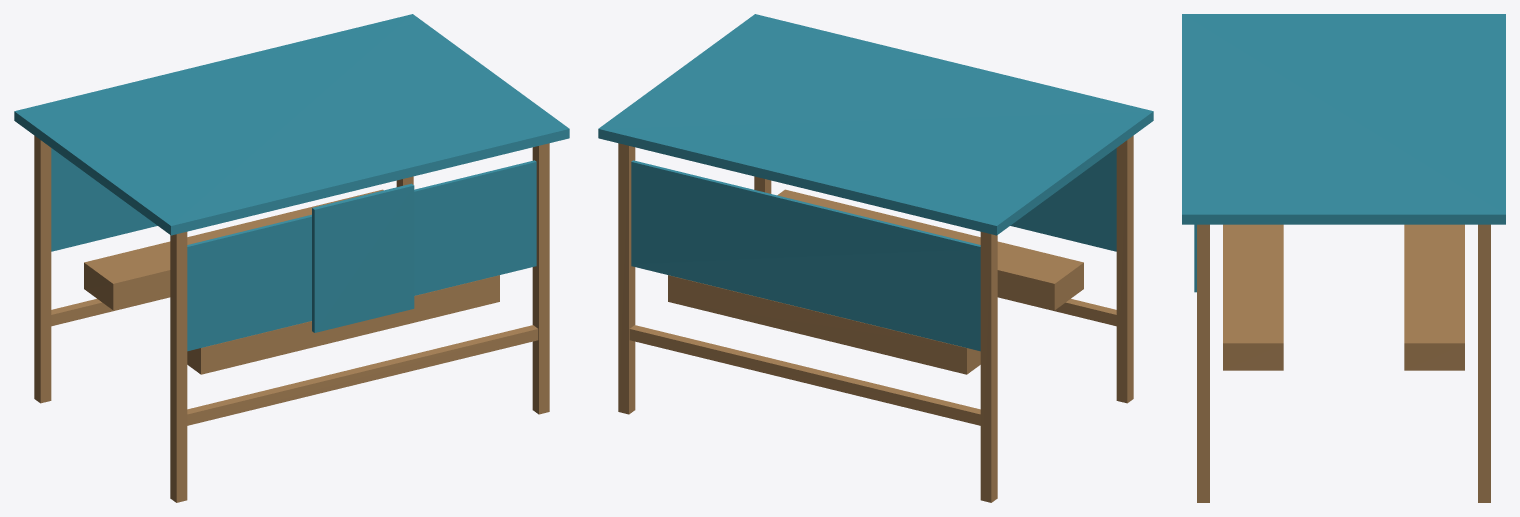
The model's file is shade-house.source.glb.
3 views of the same model, side by side, from view 1: azimuth 30°, elevation 25°; view 2: azimuth 150°, elevation 25°; view 3: azimuth 270°, elevation 25° (orthographic). The views are drawn at different scales.
Visible parts, largest first — view 1: shade-house-roof-mesh, shade-house-side-screen-mesh (×2), shade-house-post-mesh (×3), shade-house-front-flap-mesh, shade-house-bench-mesh (×2), shade-house-side-rail-mesh (×2); view 2: shade-house-roof-mesh, shade-house-side-screen-mesh (×2), shade-house-bench-mesh (×2), shade-house-post-mesh (×3), shade-house-side-rail-mesh (×2); view 3: shade-house-roof-mesh, shade-house-bench-mesh (×2), shade-house-post-mesh (×2).
Part boxes in pixels (x1,y1,x2,y2): shade-house-roof-mesh: [14, 14, 569, 235]; shade-house-side-screen-mesh (×2): [51, 148, 536, 351]; shade-house-post-mesh (×3): [34, 135, 549, 502]; shade-house-front-flap-mesh: [312, 183, 414, 332]; shade-house-bench-mesh (×2): [84, 189, 499, 374]; shade-house-side-rail-mesh (×2): [51, 296, 538, 425]; shade-house-roof-mesh: [598, 14, 1153, 235]; shade-house-side-screen-mesh (×2): [631, 148, 1116, 351]; shade-house-bench-mesh (×2): [668, 189, 1083, 374]; shade-house-post-mesh (×3): [618, 135, 1133, 502]; shade-house-side-rail-mesh (×2): [629, 296, 1116, 425]; shade-house-roof-mesh: [1182, 14, 1505, 224]; shade-house-bench-mesh (×2): [1223, 224, 1464, 370]; shade-house-post-mesh (×2): [1197, 224, 1490, 502].
Size of the model in its own units: 2.2 by 1.51 by 1.5.
